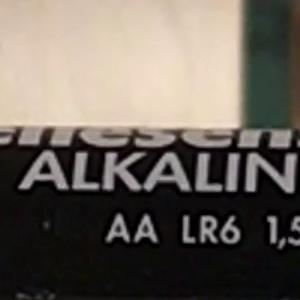ALK: (9, 143, 134, 199)
